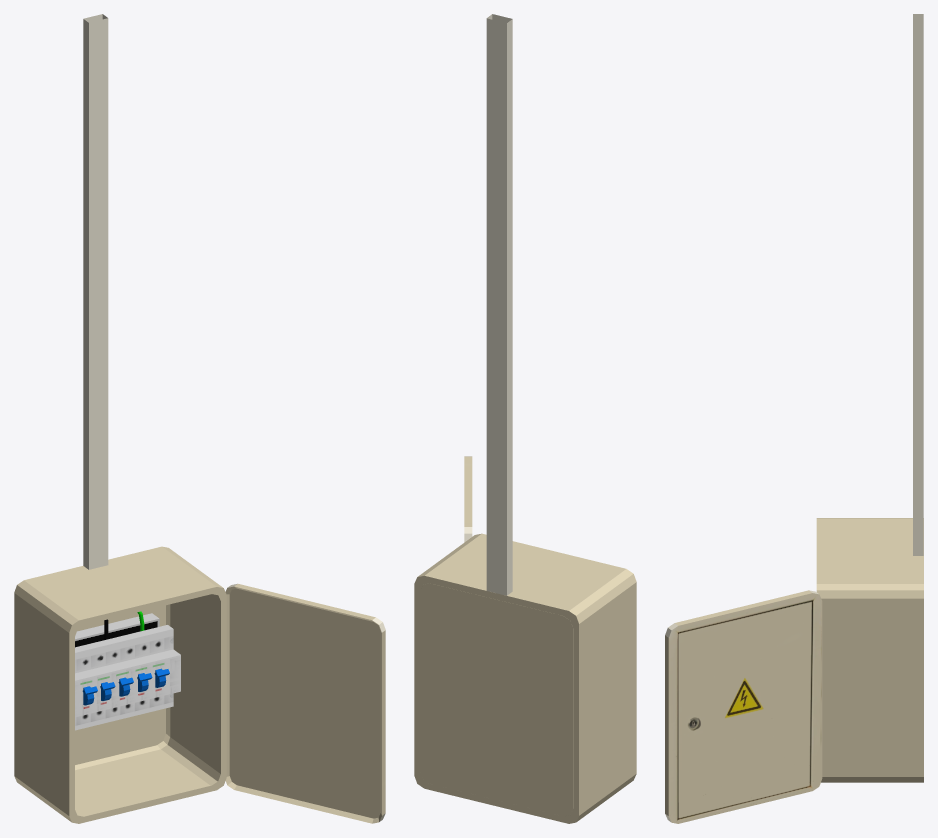
File: fusebox.fbx
3 renders of one model, left to right at view 1: azimuth 30°, elevation 25°; view 2: azimuth 150°, elevation 25°; view 3: azimuth 270°, elevation 25°, orthographic. The views are drawn at different scales.
Parts seen in each view (by area): view 1: Cube_0, Cube.001_1, Cube.003_2, Cube.002_3; view 2: Cube_0, Cube.003_2, Cube.001_1; view 3: Cube.001_1, Cube_0, Cube.003_2.
Part boxes in pixels (<box>): Cube_0: <box>14,546,226,823</box>; Cube.001_1: <box>225,583,385,823</box>; Cube.003_2: <box>83,14,108,569</box>; Cube.002_3: <box>75,613,180,730</box>; Cube_0: <box>414,533,636,823</box>; Cube.003_2: <box>486,14,512,595</box>; Cube.001_1: <box>464,456,472,542</box>; Cube.001_1: <box>665,590,822,823</box>; Cube_0: <box>816,518,923,782</box>; Cube.003_2: <box>913,14,923,555</box>.
Bounding box in the file's own units: 248 × 738 × 237.
